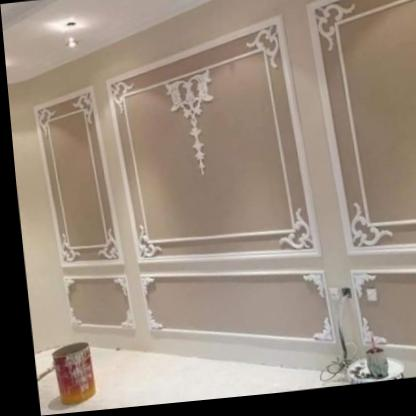Futec frame: (101, 15, 331, 354), (304, 0, 416, 363), (30, 82, 131, 335)
